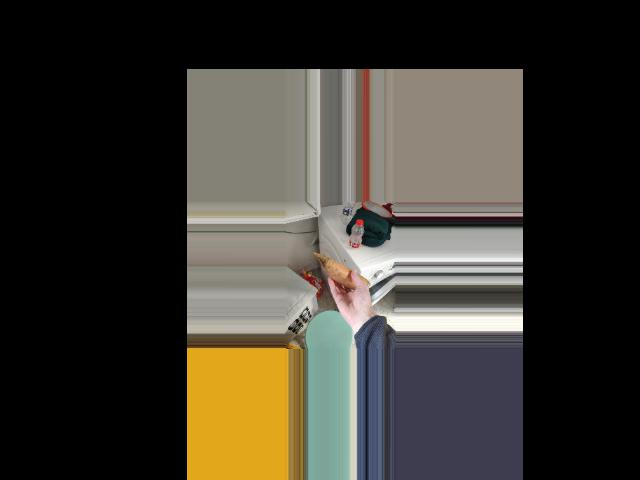sweet_potato: (328, 261, 363, 287)
